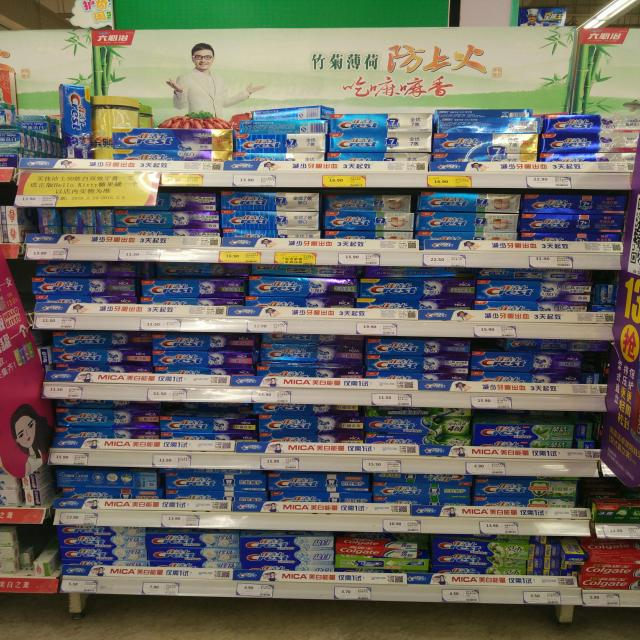unorganised: (60, 81, 99, 164), (143, 260, 255, 280), (329, 193, 413, 213), (251, 104, 336, 123), (57, 397, 160, 412)
